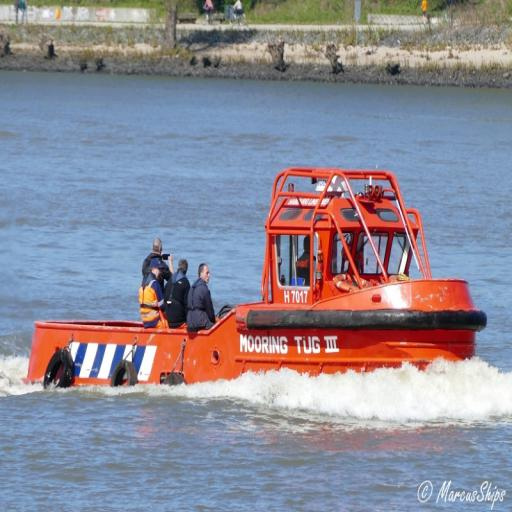tugboat: (16, 161, 492, 404)
